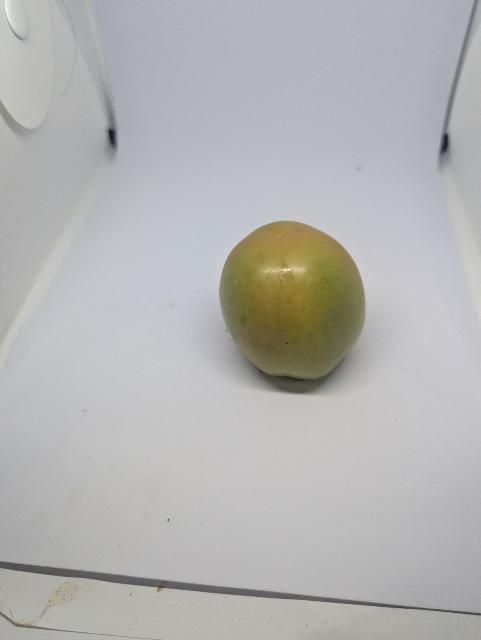breaker: (213, 219, 369, 397)
